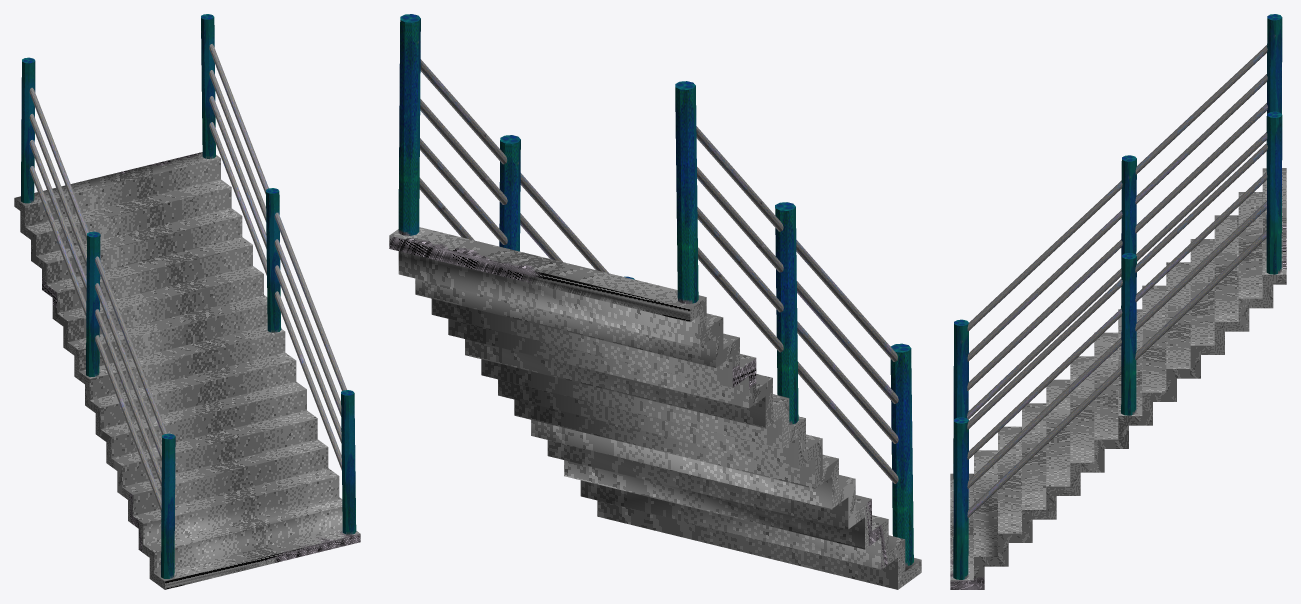
Rendered from StraightStairs.glb.
3 renders of one model, left to right at view 1: azimuth 30°, elevation 25°; view 2: azimuth 150°, elevation 25°; view 3: azimuth 270°, elevation 25°, orthographic. The views are drawn at different scales.
Parts seen in each view (by area): view 1: StraightStairs; view 2: StraightStairs; view 3: StraightStairs.
Boxes of the visible parts, x1,y1,x2,y2 form: StraightStairs: (14, 14, 360, 589); StraightStairs: (389, 14, 921, 589); StraightStairs: (950, 14, 1286, 589).
Size of what is drawn, in the model's own units: 8.73 by 17.94 by 11.63.
Materials: 3 (3 with a texture image).
